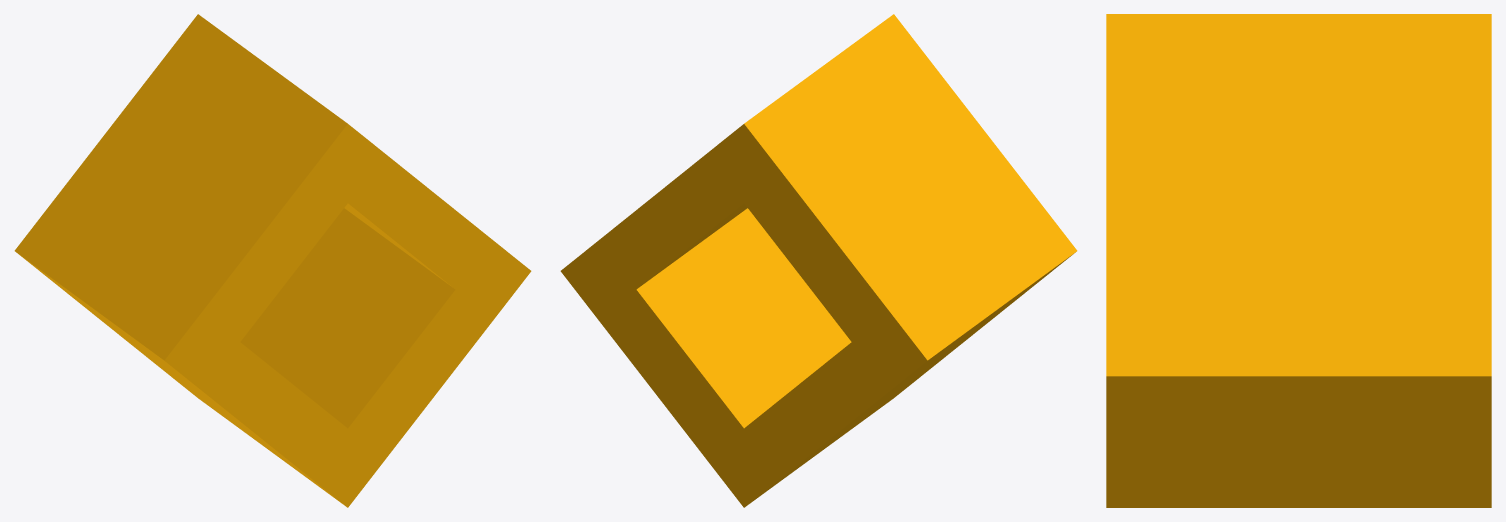
File: 3dmodel.glb
3 views of the same model, side by side, from view 1: azimuth 30°, elevation 25°; view 2: azimuth 150°, elevation 25°; view 3: azimuth 270°, elevation 25° (orthographic). The views are drawn at different scales.
Parts seen in each view (by area): view 1: Cube; view 2: Cube; view 3: Cube.
Boxes of the visible parts, left/top/right/bottom form: Cube: left=14, top=14, right=531, bottom=507; Cube: left=560, top=14, right=1077, bottom=507; Cube: left=1106, top=14, right=1491, bottom=507.
Bounding box in the file's own units: 0.7009 × 0.7009 × 0.4956.
